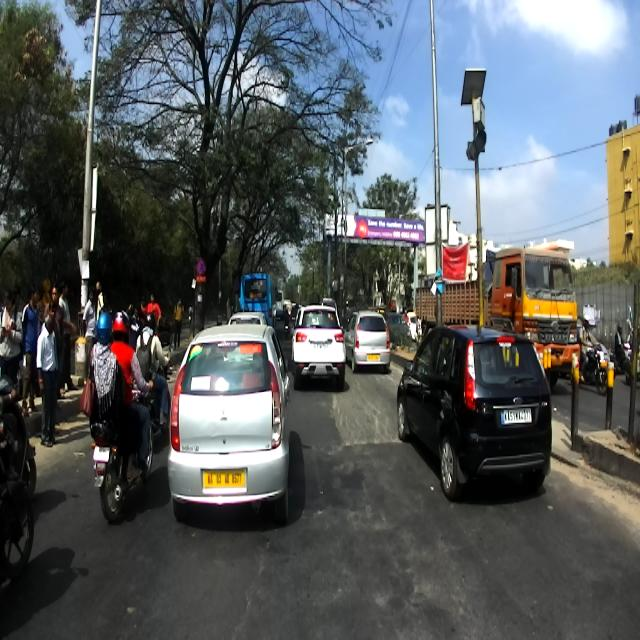car ahead at: (400, 316, 553, 520), (168, 318, 292, 522), (296, 290, 354, 395)
motorcycle ahead at: (80, 406, 160, 524)
